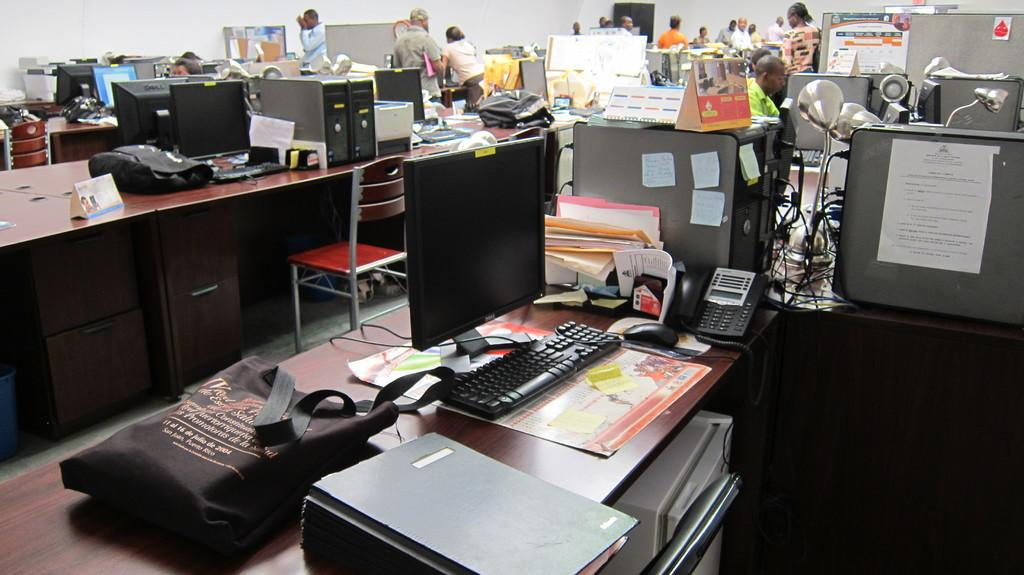Computer-keyboard: (439, 317, 623, 419)
Computer-monitor: (392, 111, 546, 346), (173, 77, 252, 168), (110, 73, 177, 149), (367, 60, 426, 136), (50, 61, 105, 128), (840, 101, 908, 153), (90, 67, 141, 113), (515, 52, 551, 106), (908, 74, 939, 122)
